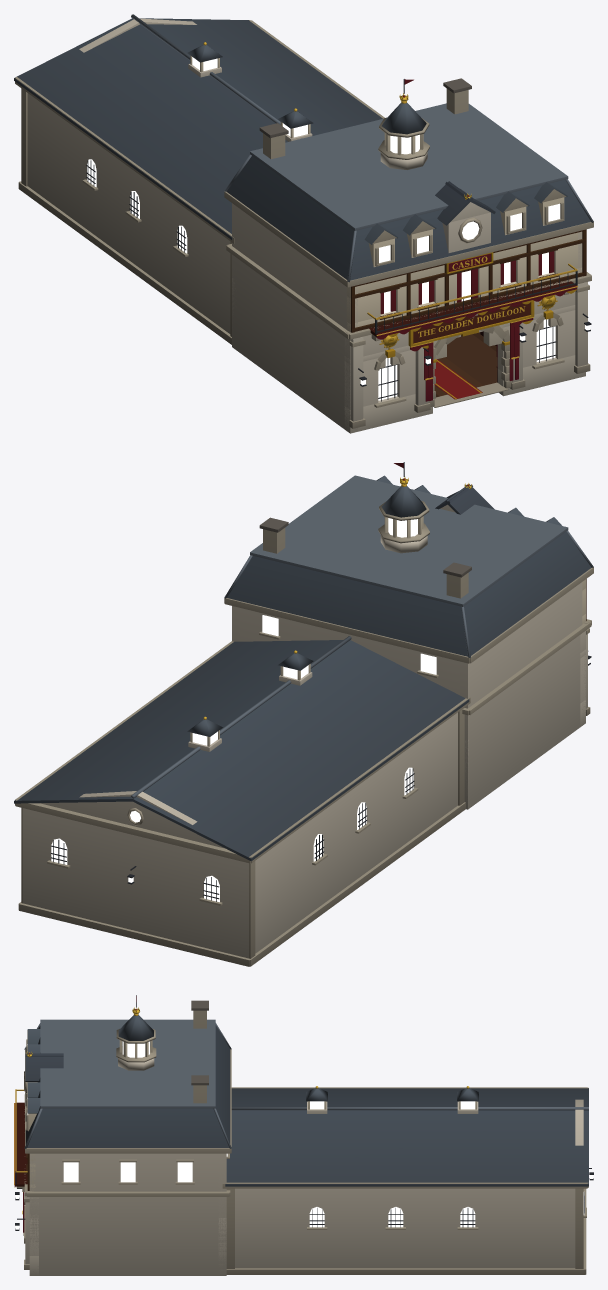
The model's file is casino_hall_low.glb.
3 views of the same model, one above another, from view 1: azimuth 30°, elevation 25°; view 2: azimuth 150°, elevation 25°; view 3: azimuth 270°, elevation 25° (orthographic). The views are drawn at different scales.
Parts seen in each view (by area): view 1: casino_hall_LOD1; view 2: casino_hall_LOD1; view 3: casino_hall_LOD1.
Boxes of the visible parts, <box> form: casino_hall_LOD1: <box>14,14,593,433</box>; casino_hall_LOD1: <box>14,462,593,966</box>; casino_hall_LOD1: <box>14,995,593,1275</box>.
Bounding box in the file's own units: 17.46 × 18.88 × 42.66.
